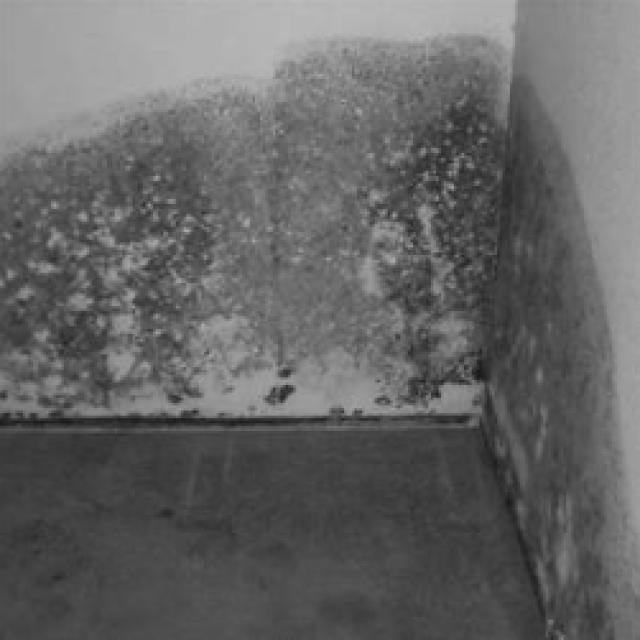stain marks: (0, 30, 484, 418), (487, 41, 625, 470), (538, 477, 638, 637)
